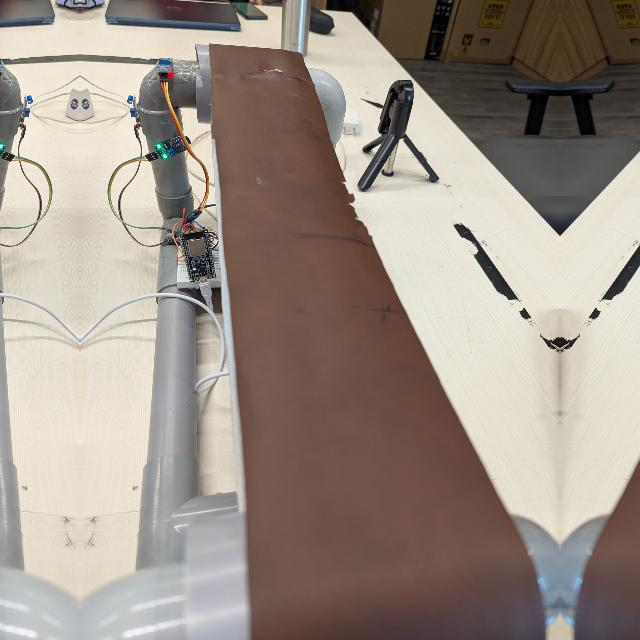edge_damage: (335, 173, 379, 249)
joint_damage: (263, 66, 285, 80)
